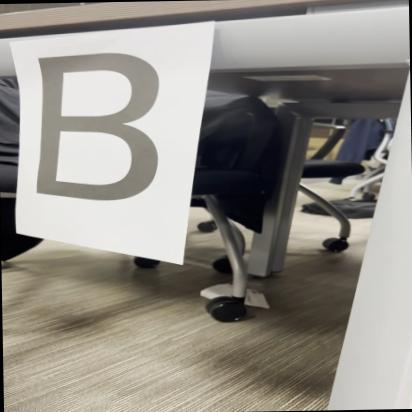seat: (26, 43, 174, 214)
